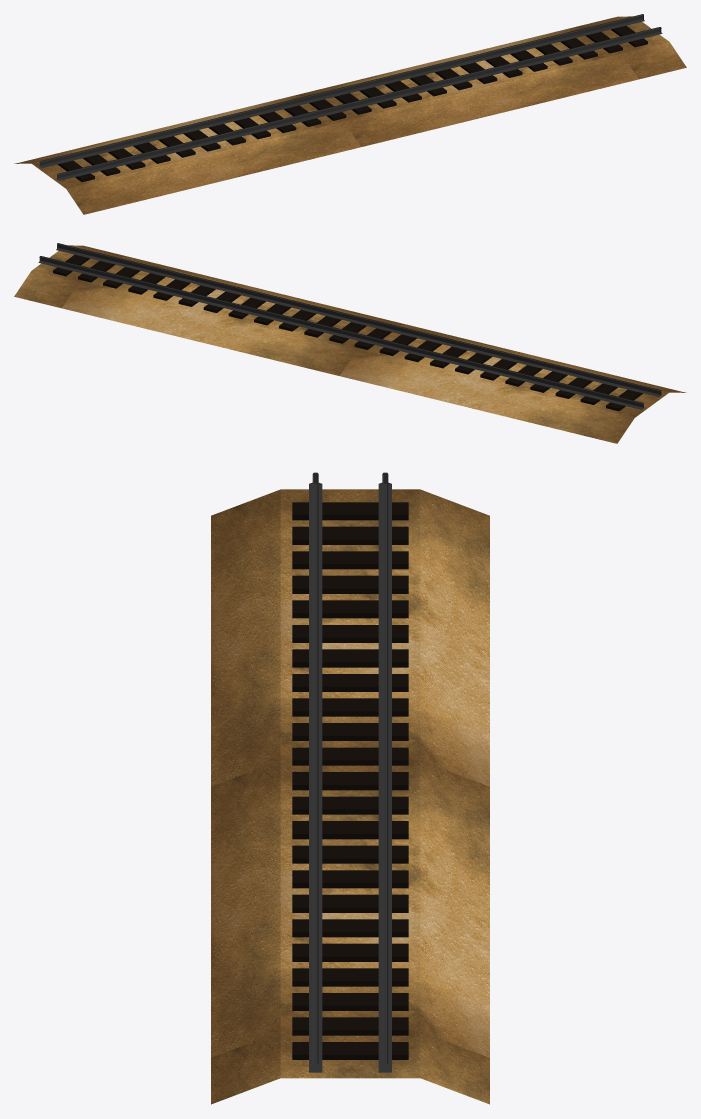
File: railroad_track.obj
The picture shows the model from 3 angles, top to bottom: view 1: azimuth 30°, elevation 25°; view 2: azimuth 150°, elevation 25°; view 3: azimuth 270°, elevation 25°; orthographic projection. The views are drawn at different scales.
Visible parts, largest first — view 1: Plane; view 2: Plane; view 3: Plane.
Boxes of the visible parts, box(x1,y1,x2,y2) form: Plane: box(14, 14, 686, 214); Plane: box(14, 243, 686, 443); Plane: box(211, 472, 489, 1104).
Bounding box in the file's own units: 24 × 0.8206 × 4.8.
3 materials, 1 textured.
